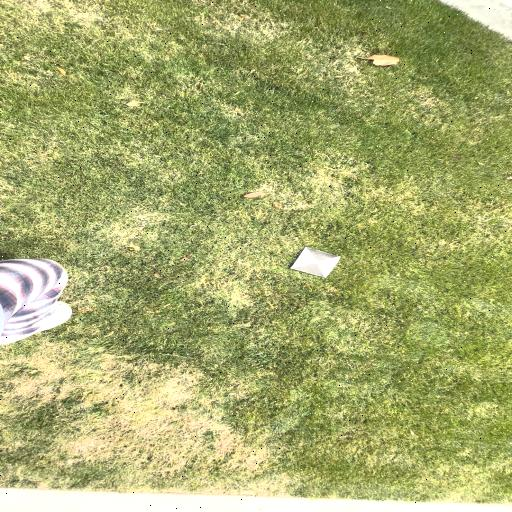target: (291, 248, 341, 277)
